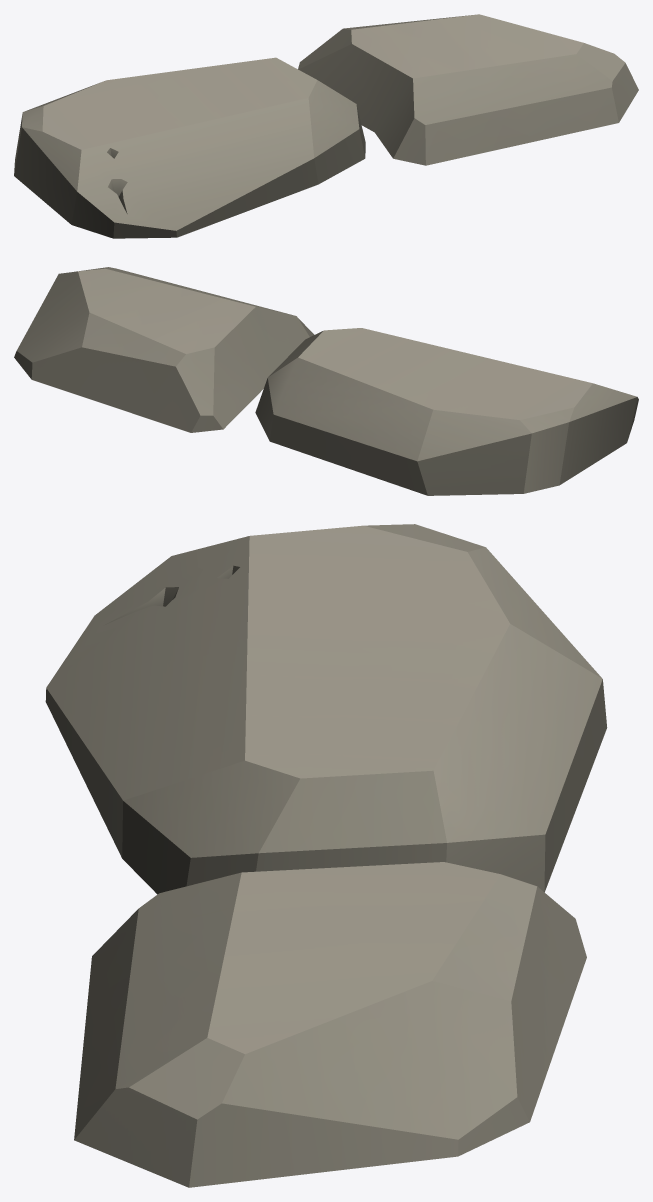
File: Stone_Step_2A.fbx
The picture shows the model from 3 angles, top to bottom: view 1: azimuth 30°, elevation 25°; view 2: azimuth 150°, elevation 25°; view 3: azimuth 270°, elevation 25°; orthographic projection. The views are drawn at different scales.
Parts seen in each view (by area): view 1: Stone_Step_2A; view 2: Stone_Step_2A; view 3: Stone_Step_2A.
Boxes of the visible parts, x1,y1,x2,y2 form: Stone_Step_2A: (14, 14, 638, 238); Stone_Step_2A: (14, 267, 638, 495); Stone_Step_2A: (45, 524, 607, 1187).
Bounding box in the file's own units: 3.08 × 0.3189 × 1.32.
